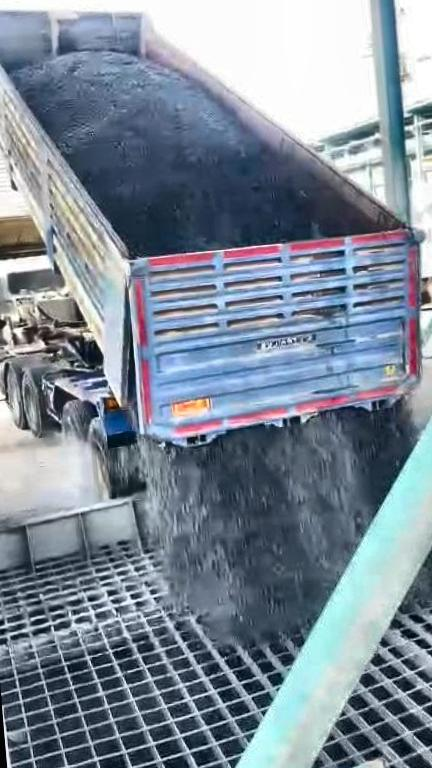gravel: (14, 51, 364, 255), (143, 404, 415, 642), (409, 502, 432, 604)
